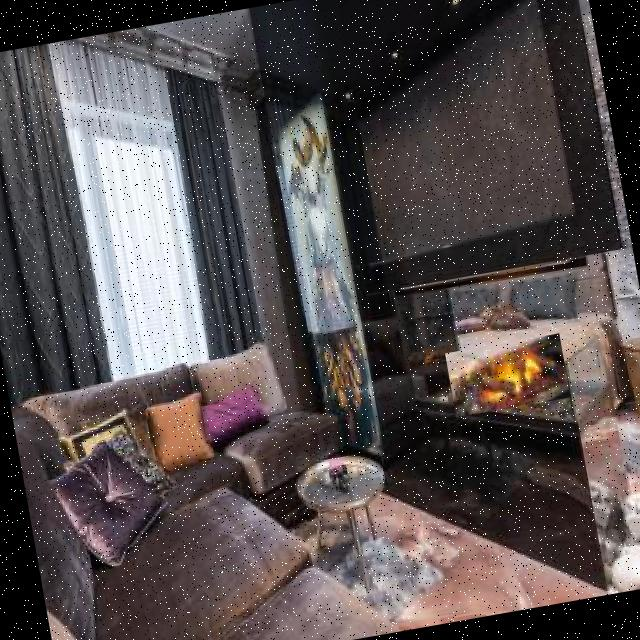fire: (444, 333, 570, 417)
